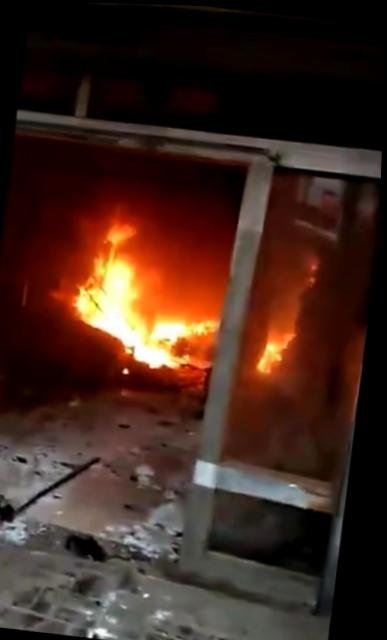fire: (76, 251, 139, 332), (259, 323, 291, 376), (132, 341, 181, 368), (149, 312, 190, 343), (104, 217, 143, 247), (116, 316, 146, 347), (188, 313, 220, 337)
